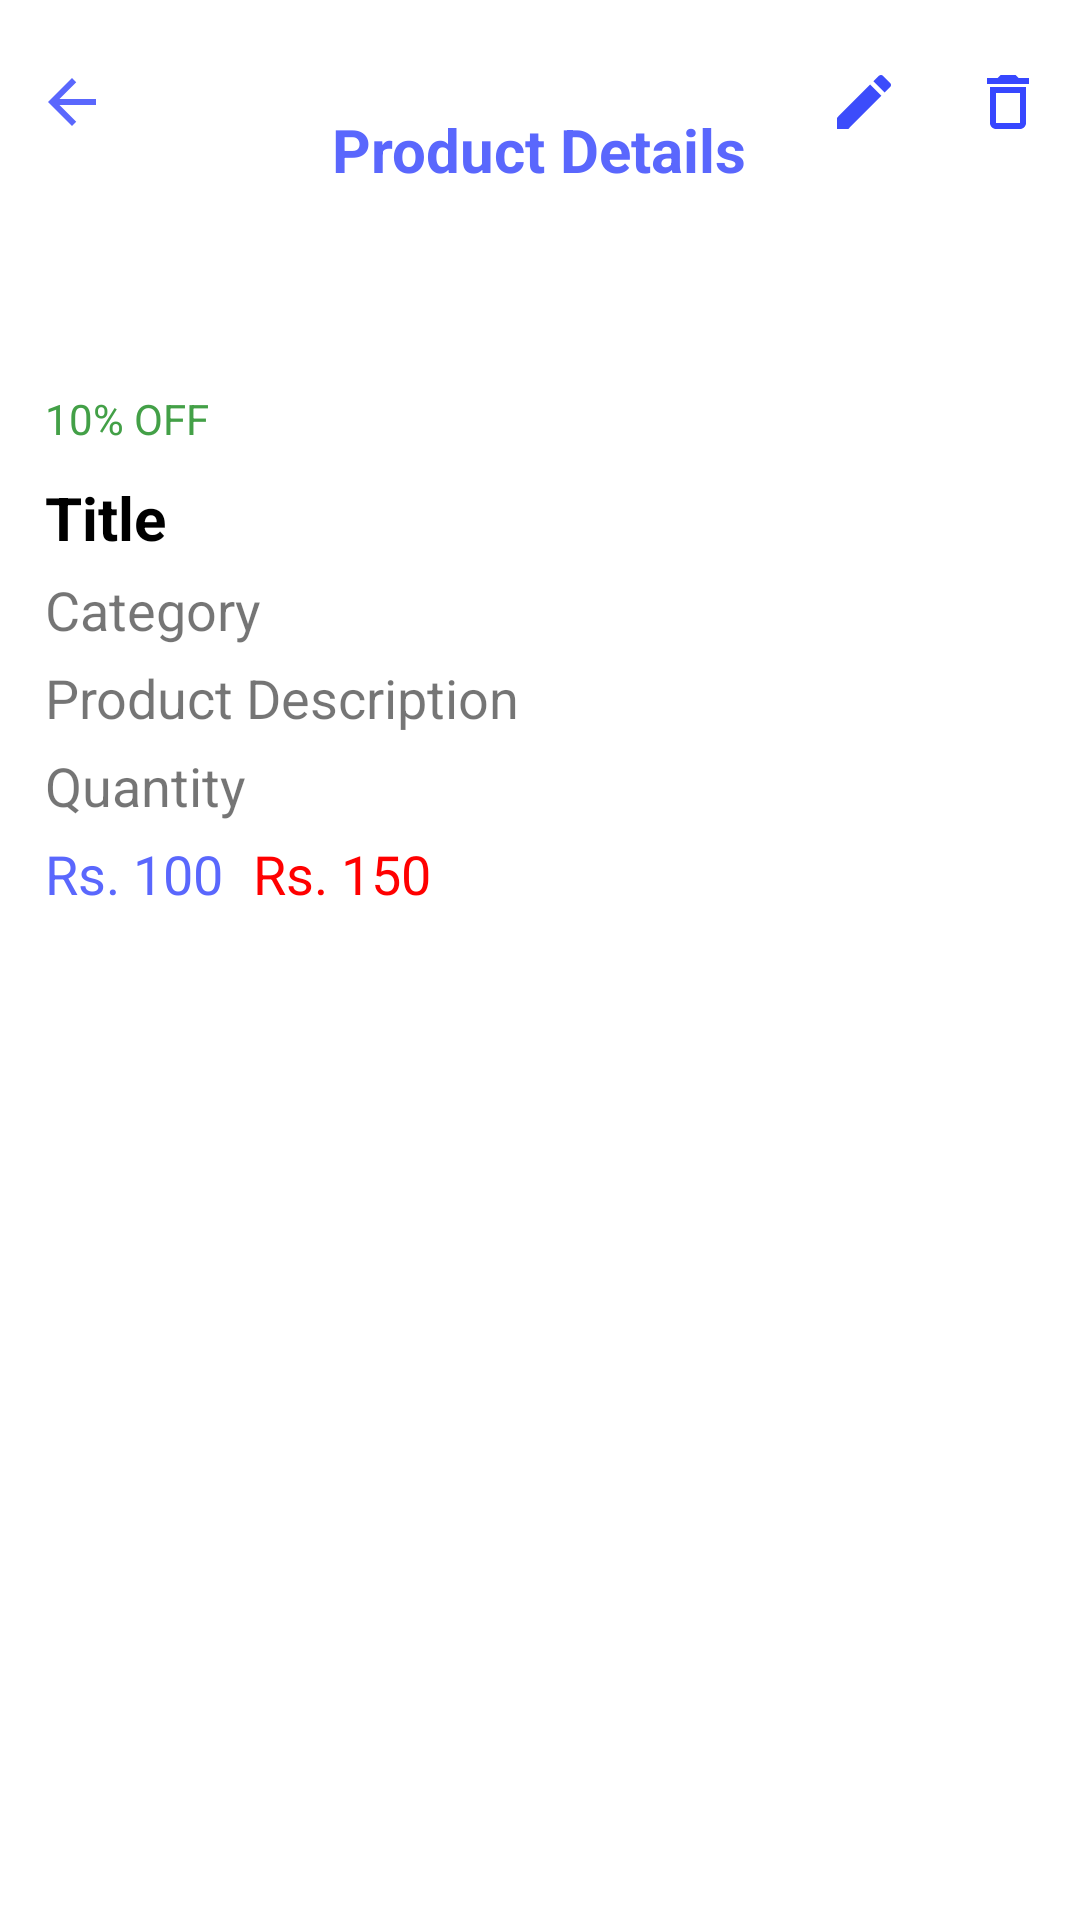

Screen size 1080*1920. Icon name, then its center in pixels as (x=x, y=y):
arrow back: (x=72, y=102)
delete: (x=1008, y=102)
edit: (x=864, y=102)
